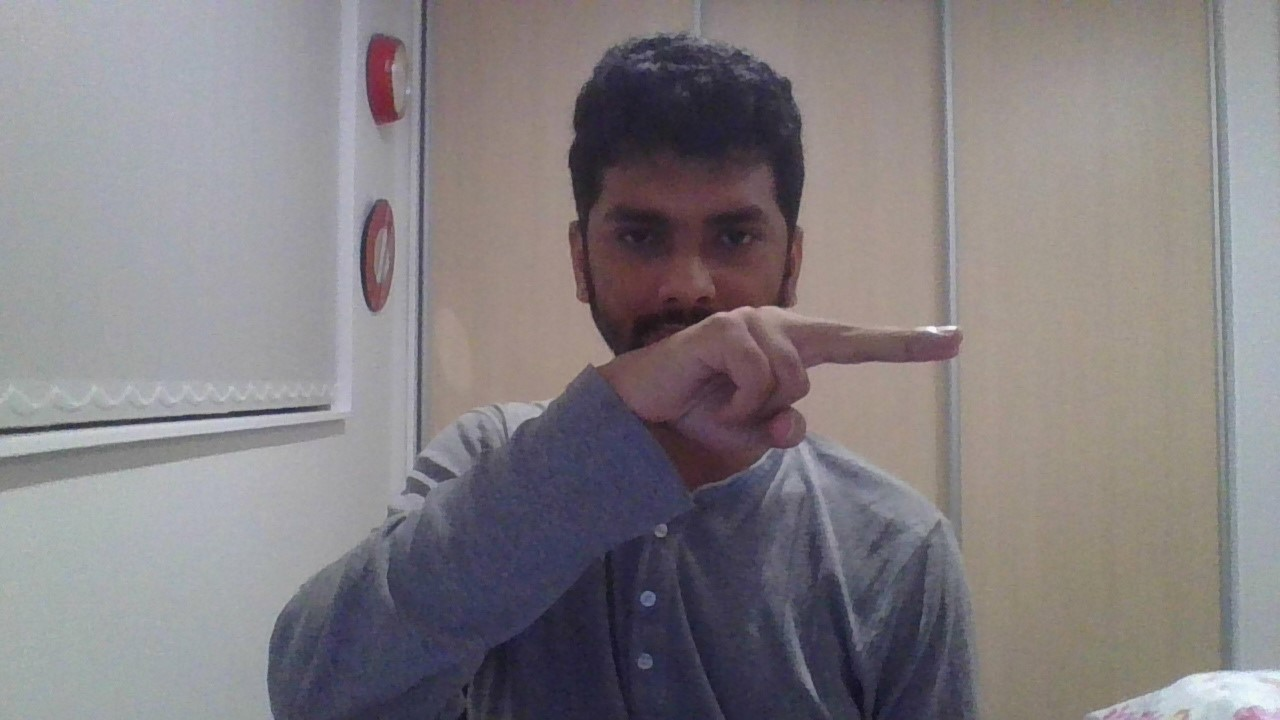look_around: (618, 306, 962, 449)
